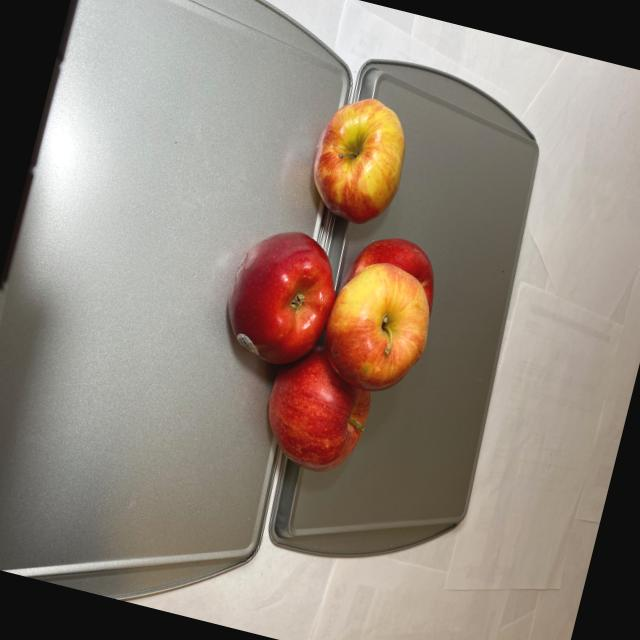apple: (192, 79, 479, 495)
